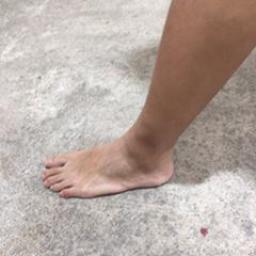Lateral View -Left Foot-: (37, 111, 202, 207)
